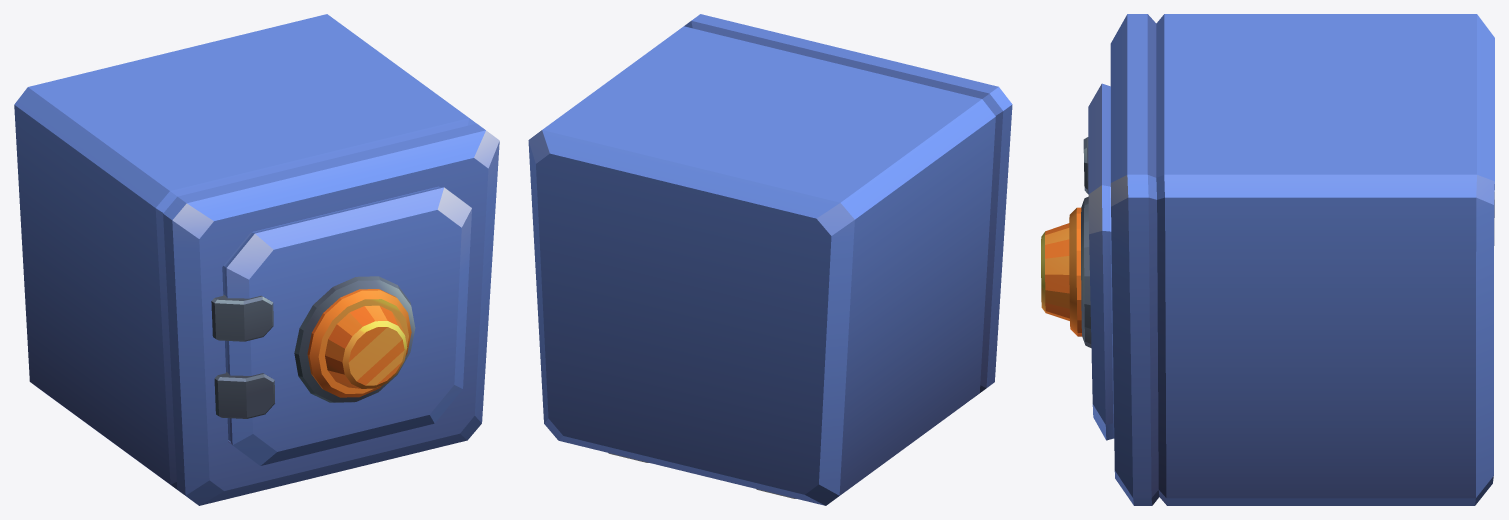
File: safebox.fbx
3 views of the same model, side by side, from view 1: azimuth 30°, elevation 25°; view 2: azimuth 150°, elevation 25°; view 3: azimuth 270°, elevation 25° (orthographic). The views are drawn at different scales.
Visible parts, largest first — view 1: safebox, safebox_door; view 2: safebox; view 3: safebox, safebox_door.
Part boxes in pixels (<box>): safebox: <box>14,14,499,505</box>; safebox_door: <box>211,186,471,465</box>; safebox: <box>528,14,1012,505</box>; safebox: <box>1110,14,1494,505</box>; safebox_door: <box>1041,83,1114,440</box>.
Size of the model in its own units: 80.91 by 76.01 by 88.27.
